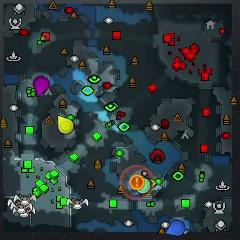Other: (130, 175, 144, 189)
p1: (167, 219, 184, 237)
p1Clone: (136, 178, 150, 193)
p3: (34, 76, 49, 97)
p4: (58, 115, 73, 135)
